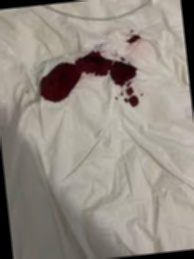blood: (36, 48, 140, 113)
